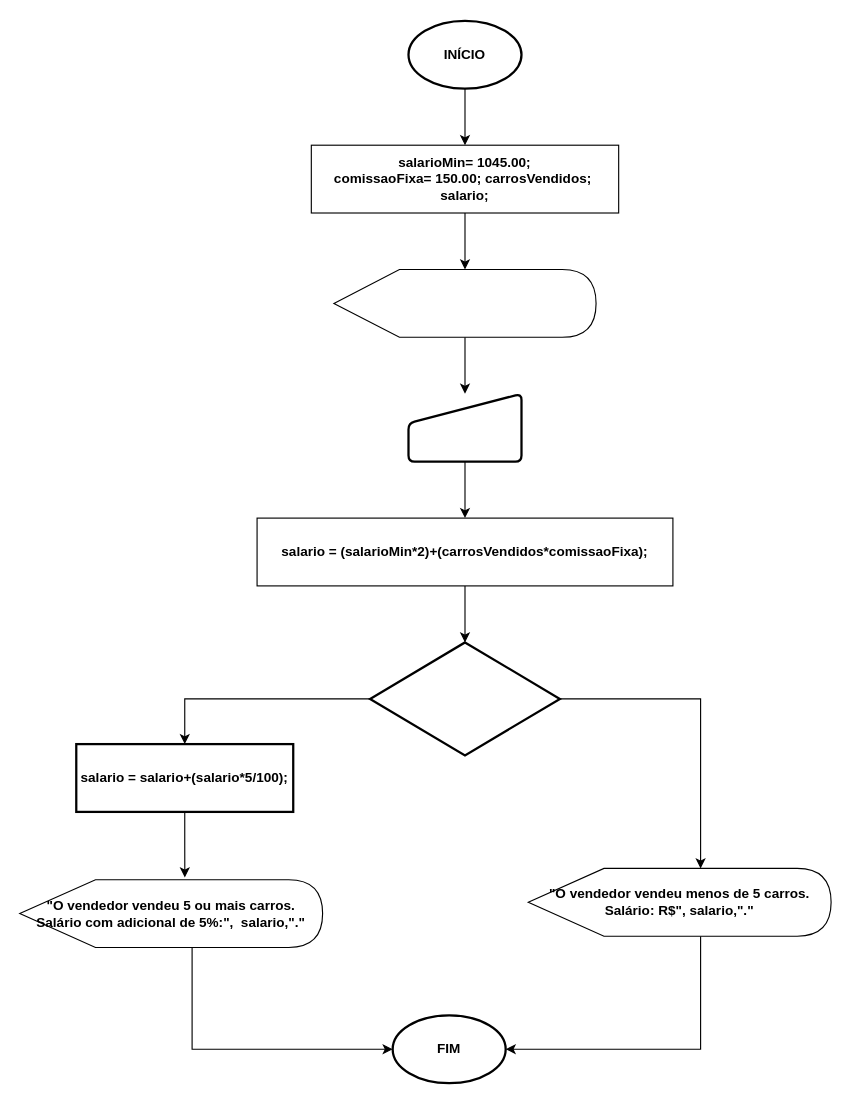
Some shapes in this 851 by 1103 pixel diagram are drawn without their labels. Here are the shapes that lost their labels. From the top down, the centre of each, then its label:
At point (464, 302): "Quantos carros o vendedor vendeu no mês?".
At point (464, 427): "carrosVendidos".
At point (464, 698): "carrosVendidos >= 5".
